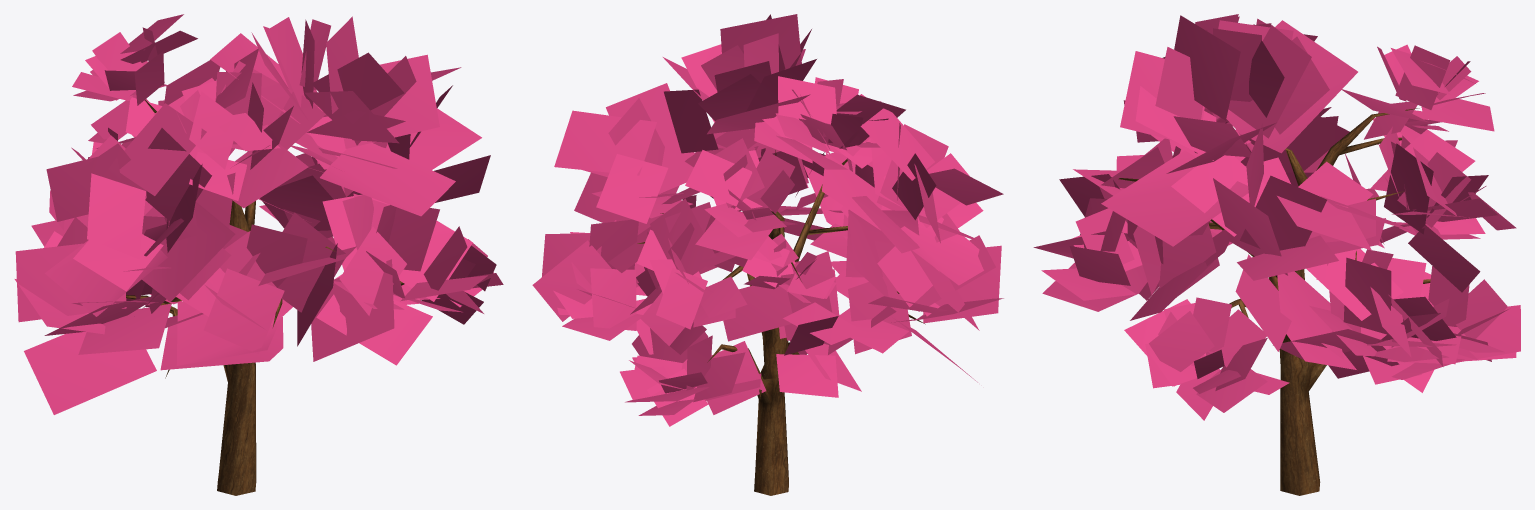
Rendered from TreeLOD_3.fbx.
The picture shows the model from 3 angles, left to right: view 1: azimuth 30°, elevation 25°; view 2: azimuth 150°, elevation 25°; view 3: azimuth 270°, elevation 25°; orthographic projection. The views are drawn at different scales.
Visible parts, largest first — view 1: TreeLOD_3_foliage, TreeLOD_3_trunk; view 2: TreeLOD_3_foliage, TreeLOD_3_trunk; view 3: TreeLOD_3_foliage, TreeLOD_3_trunk.
Boxes of the visible parts, x1,y1,x2,y2 form: TreeLOD_3_foliage: (14, 14, 503, 414); TreeLOD_3_trunk: (126, 100, 404, 495); TreeLOD_3_foliage: (532, 14, 1003, 426); TreeLOD_3_trunk: (637, 150, 925, 495); TreeLOD_3_foliage: (1033, 14, 1520, 420); TreeLOD_3_trunk: (1111, 108, 1430, 495).
Bounding box in the file's own units: 4.91 × 4.92 × 4.47.
